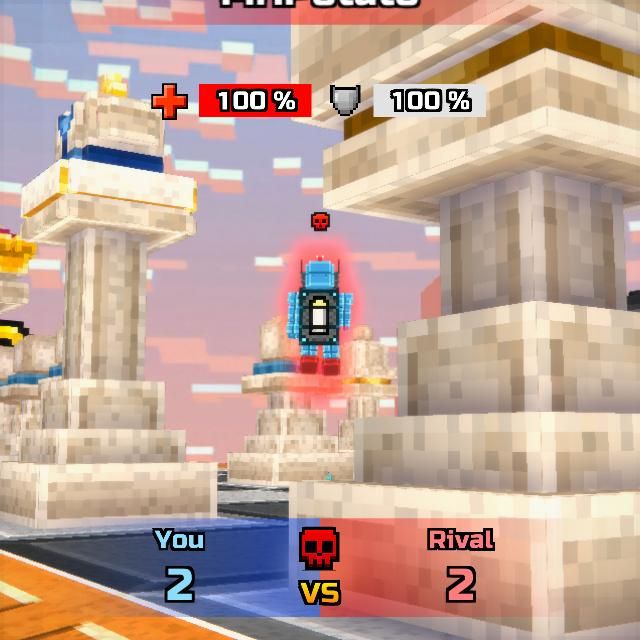Enemy: (288, 259, 356, 374)
